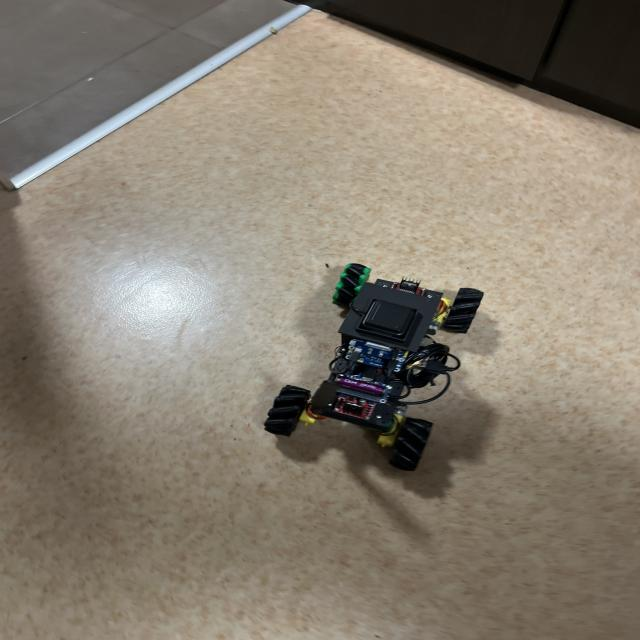robot: (264, 263, 483, 471)
